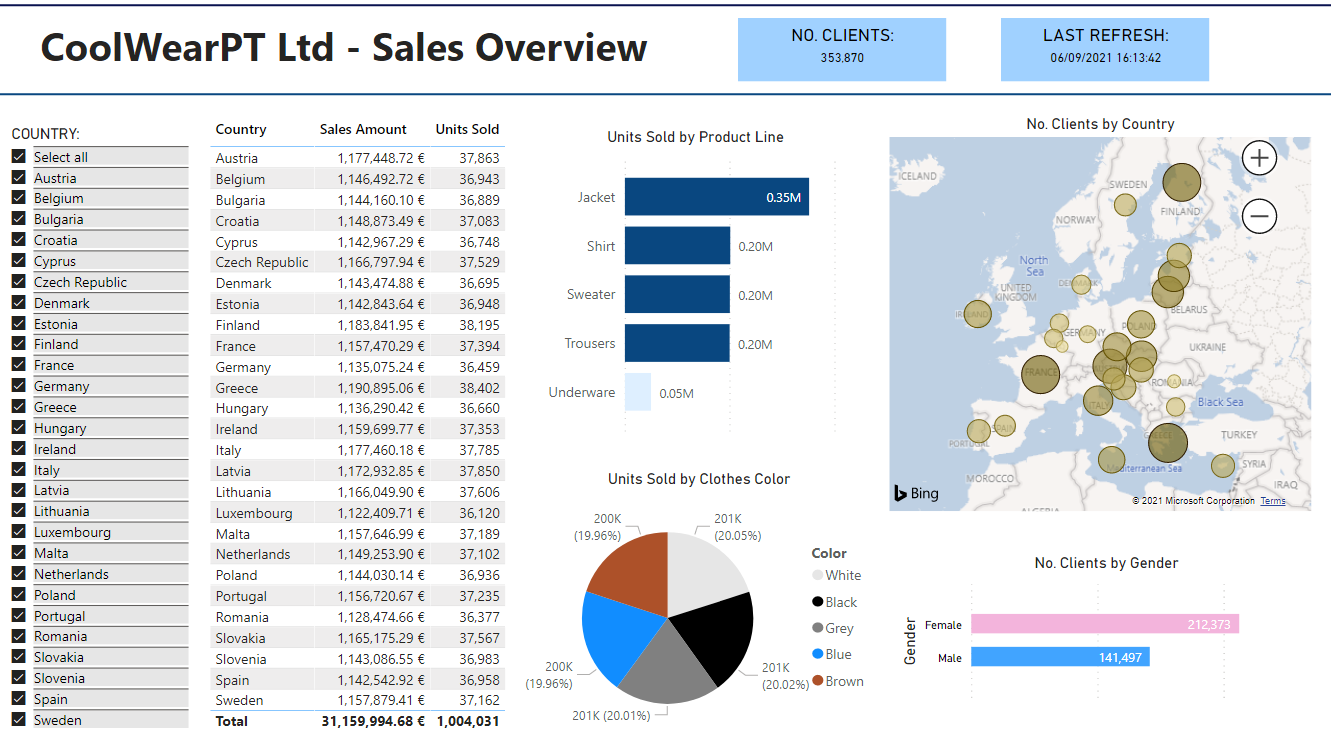

Layout of this report page (visuals, bound fields, positions):
{"tool":"powerbi","page":{"name":"Sales Overview","canvas":[1280,720],"ordinal":0},"visuals":[{"type":"shape","box":[0,0,1280.2,12.4],"z":0},{"type":"shape","box":[0,85.3,1280,12.5],"z":1000},{"type":"textbox","box":[35.5,14.4,623.2,59.4],"z":2000},{"type":"slicer","fields":{"Values":["Sales_History_1.Country"]},"box":[0,116,187.9,594.5],"z":3000},{"type":"map","title":"No. Clients by Country","fields":{"Category":["Sales_History_1.Country"],"Size":["Sum(Sales_History_1.Client_Count)"]},"box":[849.2,110.8,415.4,384.6],"z":4000},{"type":"clusteredBarChart","title":"No. Clients by Gender","fields":{"Y":["Sum(Sales_History_1.Client_Count)"],"Category":["Sales_History_1.Gender"]},"box":[861,532.1,403.7,166.8],"z":5000},{"type":"tableEx","fields":{"Values":["Sales_History_1.Country","Sum(Sales_History_2.Paid_Amount)","Sum(Sales_History_2.Sales_Count)"]},"box":[197.5,109.3,302,598.3],"z":6000},{"type":"shape","box":[961.6,18.2,200.4,61.4],"z":7000},{"type":"card","title":"LAST REFRESH:","fields":{"Values":["Min(Sales_History_1.Refresh_Date)"]},"box":[974.2,24.2,176.1,49.3],"z":8000},{"type":"pieChart","title":"Units Sold by Clothes Color","fields":{"Y":["Sum(Sales_History_2.Sales_Count)"],"Series":["Sales_History_2.Color"]},"box":[499.6,451.5,345.4,268],"z":9000},{"type":"clusteredBarChart","title":"Units Sold by Product Line","fields":{"Category":["Sales_History_2.Product"],"Y":["Sum(Sales_History_2.Sales_Count)"]},"box":[515.8,123.7,305.9,320.2],"z":10000},{"type":"shape","box":[709.5,18.2,200.4,61.4],"z":11000},{"type":"card","title":"NO. CLIENTS:","fields":{"Values":["Sum(Sales_History_1.Client_Count)"]},"box":[721.9,24,175.5,48.9],"z":12000}]}

Visuals, with their boxes in screenshot pixels (x1, y1, x2, y2), scaled from the page's 1280x720 canvas onto the 1331x744 screenshot:
shape: box(0, 0, 1330, 13)
shape: box(0, 88, 1330, 101)
textbox: box(37, 15, 685, 76)
slicer - Sales_History_1.Country: box(0, 120, 195, 734)
"No. Clients by Country" map: box(883, 114, 1315, 512)
"No. Clients by Gender" clusteredBarChart: box(895, 550, 1315, 722)
tableEx - Sales_History_1.Country x Sum(Sales_History_2.Paid_Amount): box(205, 113, 519, 731)
shape: box(1000, 19, 1208, 82)
"LAST REFRESH:" card: box(1013, 25, 1196, 76)
"Units Sold by Clothes Color" pieChart: box(520, 467, 879, 743)
"Units Sold by Product Line" clusteredBarChart: box(536, 128, 854, 459)
shape: box(738, 19, 946, 82)
"NO. CLIENTS:" card: box(751, 25, 933, 75)
